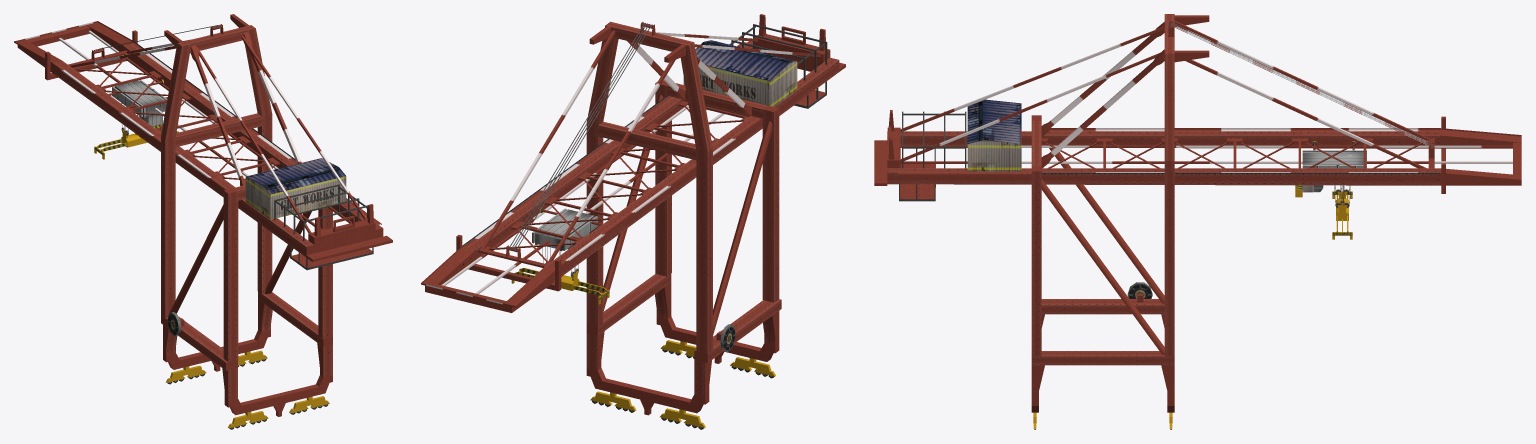
The model's file is Crane .fbx.
The picture shows the model from 3 angles, left to right: view 1: azimuth 30°, elevation 25°; view 2: azimuth 150°, elevation 25°; view 3: azimuth 270°, elevation 25°; orthographic projection. The views are drawn at different scales.
Parts seen in each view (by area): view 1: Container_misstion; view 2: Container_misstion; view 3: Container_misstion.
Boxes of the visible parts, x1,y1,x2,y2 form: Container_misstion: (14, 14, 392, 429); Container_misstion: (421, 14, 845, 429); Container_misstion: (874, 14, 1521, 429).
Size of the model in its own units: 428 by 1288 by 1985.
1 material, 1 textured.
